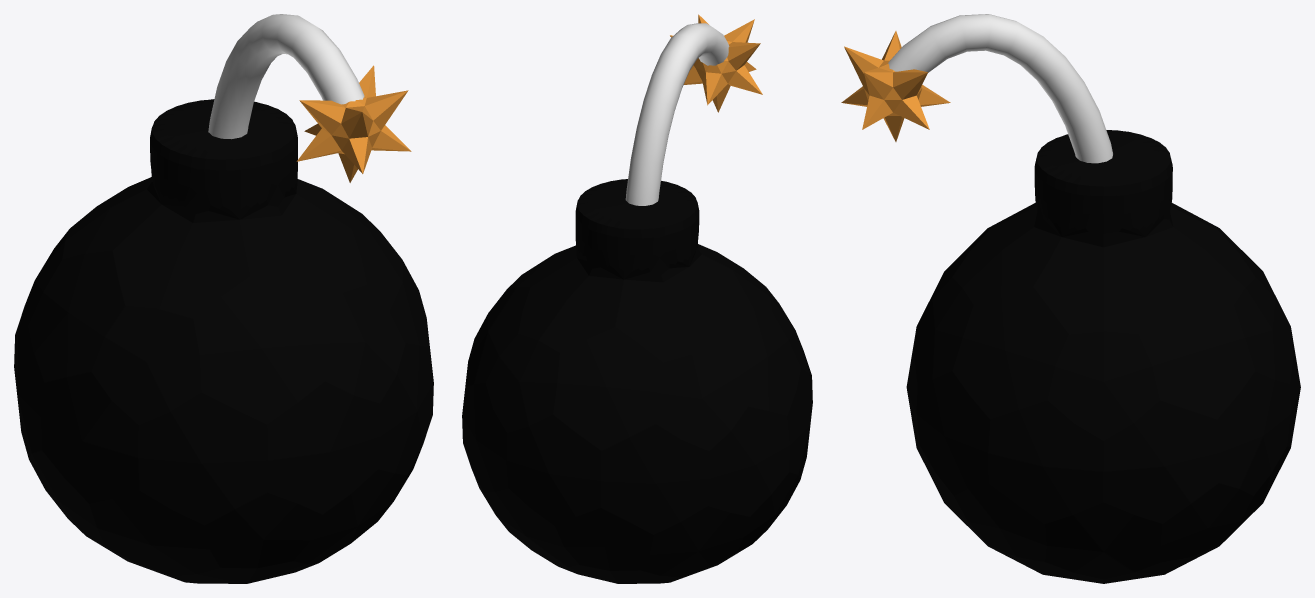
Rendered from bomb.fbx.
The picture shows the model from 3 angles, left to right: view 1: azimuth 30°, elevation 25°; view 2: azimuth 150°, elevation 25°; view 3: azimuth 270°, elevation 25°; orthographic projection. The views are drawn at different scales.
Parts seen in each view (by area): view 1: Icosphere.001; view 2: Icosphere.001; view 3: Icosphere.001.
Boxes of the visible parts, x1,y1,x2,y2 form: Icosphere.001: (14, 14, 433, 583); Icosphere.001: (462, 14, 812, 583); Icosphere.001: (841, 14, 1300, 583).
Size of the model in its own units: 695 by 1080 by 812.
